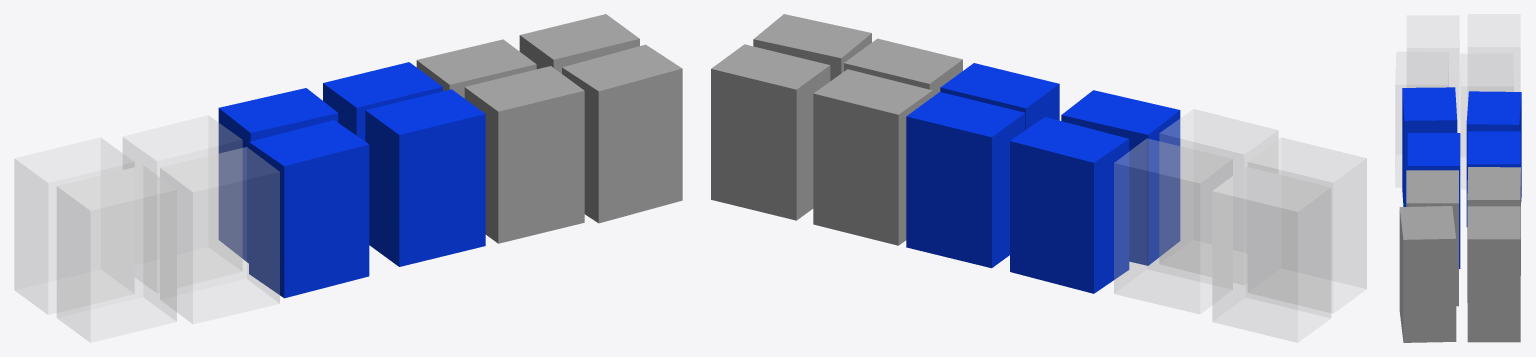
The model's file is Pasta_g87jtq_Pack01.fbx.
The picture shows the model from 3 angles, left to right: view 1: azimuth 30°, elevation 25°; view 2: azimuth 150°, elevation 25°; view 3: azimuth 270°, elevation 25°; orthographic projection. The views are drawn at different scales.
Parts seen in each view (by area): view 1: Pasta_g87jtq_Pack01; view 2: Pasta_g87jtq_Pack01; view 3: Pasta_g87jtq_Pack01.
Boxes of the visible parts, <box> form: Pasta_g87jtq_Pack01: <box>14,14,682,342</box>; Pasta_g87jtq_Pack01: <box>711,14,1366,342</box>; Pasta_g87jtq_Pack01: <box>1395,14,1521,342</box>.
Size of the model in its own units: 121 by 25.85 by 28.71.
